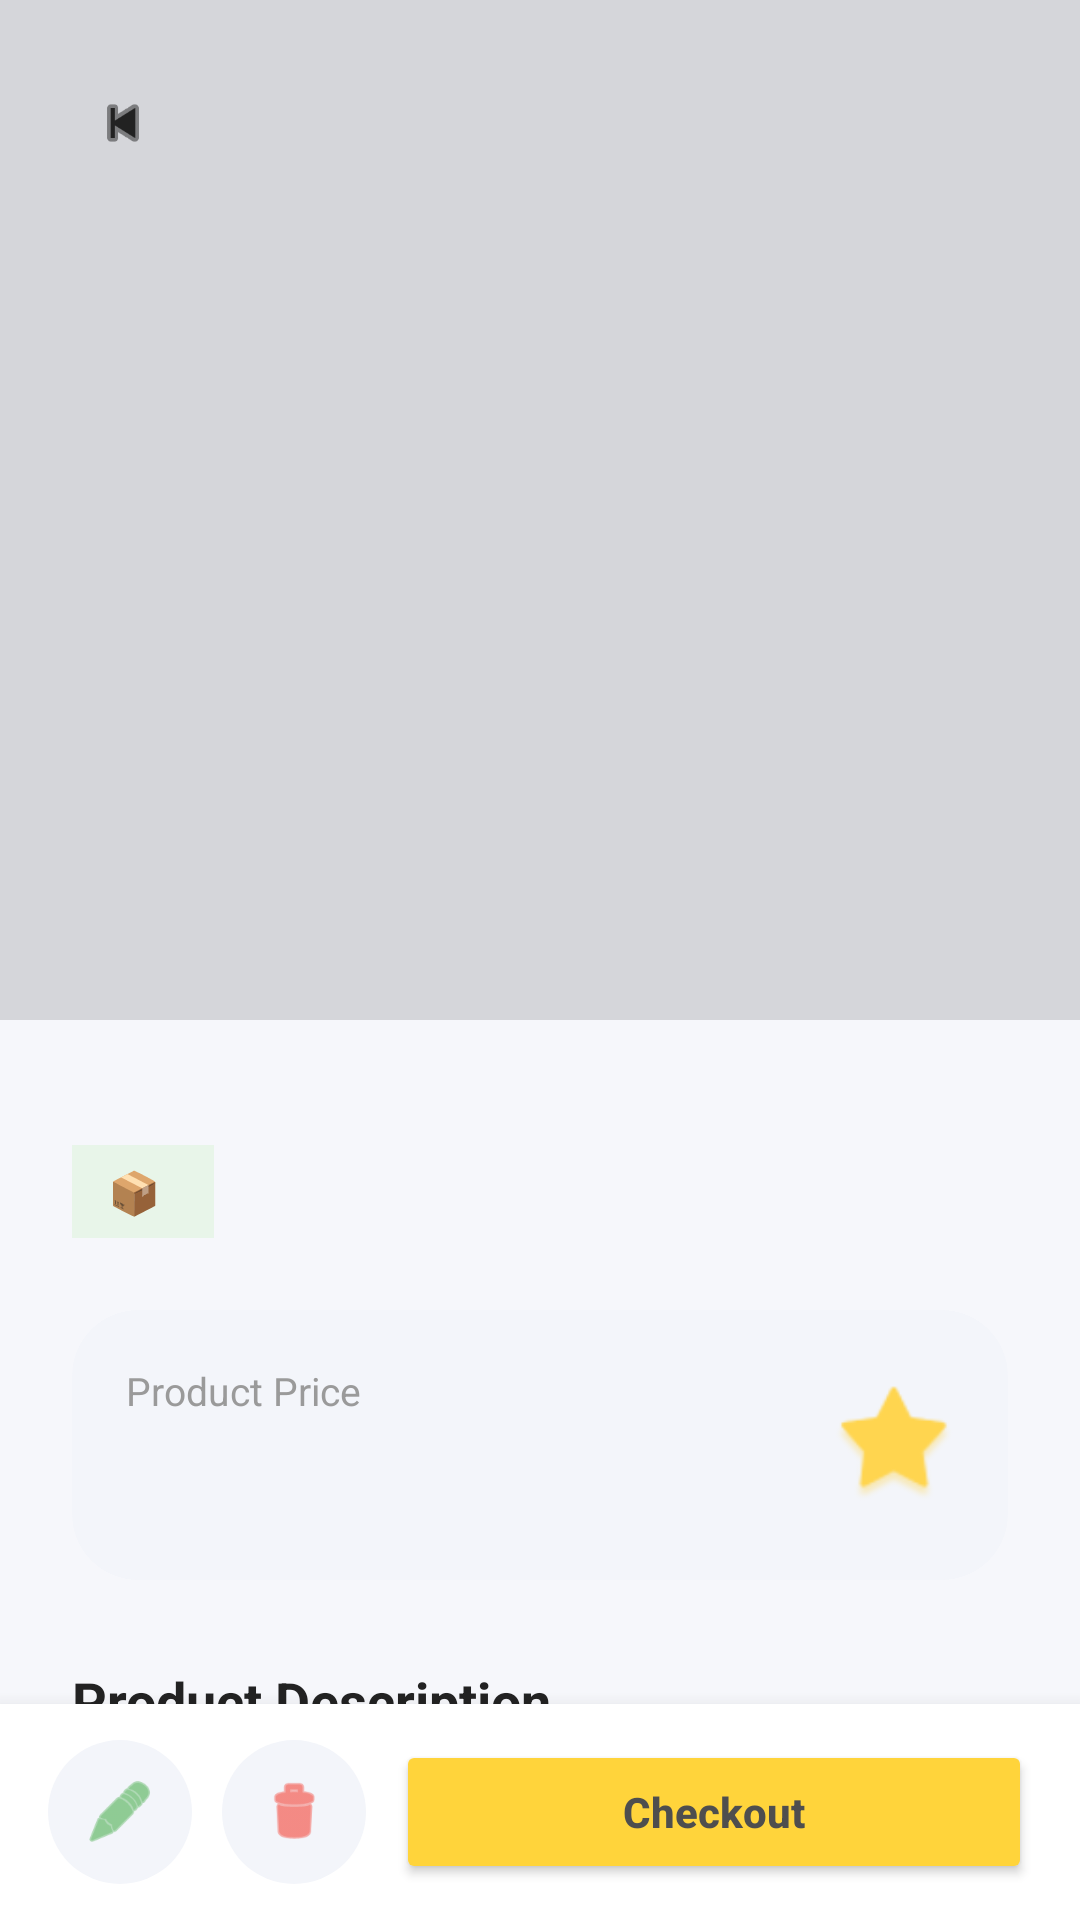

Screen size 1080*1920. Icon name, then its box in pixels as (x1, y1, x2, y2):
delete: (274, 1783, 315, 1839)
edit: (48, 1740, 192, 1884)
previous: (107, 104, 139, 142)
star on: (841, 1386, 947, 1494)
